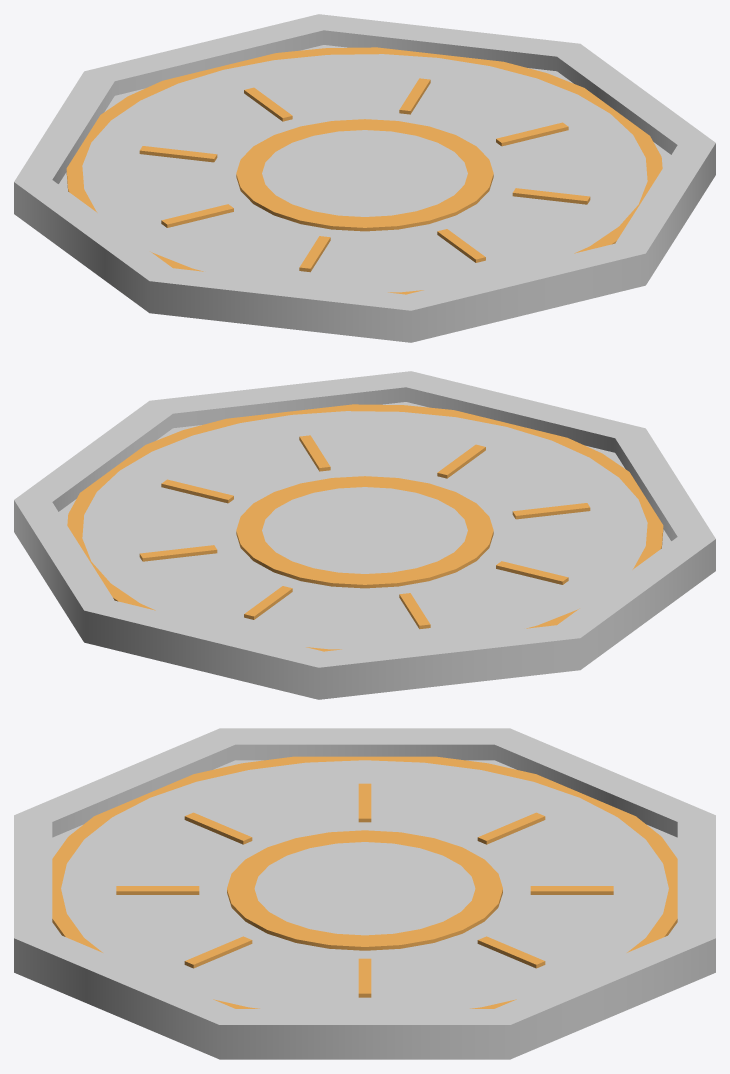
Rendered from PortalPad.glb.
3 renders of one model, top to bottom at view 1: azimuth 30°, elevation 25°; view 2: azimuth 150°, elevation 25°; view 3: azimuth 270°, elevation 25°, orthographic. The views are drawn at different scales.
Visible parts, largest first — view 1: Body, Glow; view 2: Body, Glow; view 3: Body, Glow.
Part boxes in pixels (x1=…): Body: x1=14, y1=14, x2=715, y2=342; Glow: x1=66, y1=47, x2=662, y2=294; Body: x1=14, y1=371, x2=715, y2=699; Glow: x1=67, y1=404, x2=663, y2=651; Body: x1=14, y1=728, x2=715, y2=1059; Glow: x1=52, y1=756, x2=677, y2=1008.
Bounding box in the file's own units: 10.16 × 0.55 × 10.16.
